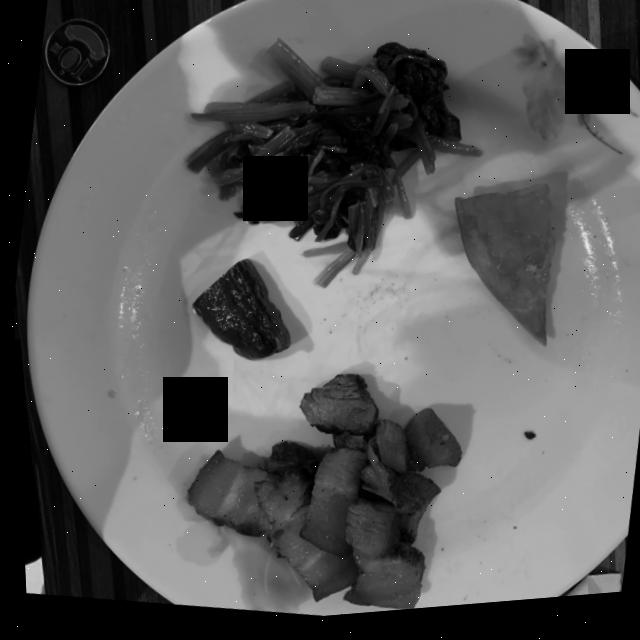coin: (43, 20, 108, 87)
firm tofu: (190, 263, 286, 364)
grilled pork: (182, 379, 456, 616)
mustard greens: (185, 43, 480, 292)
